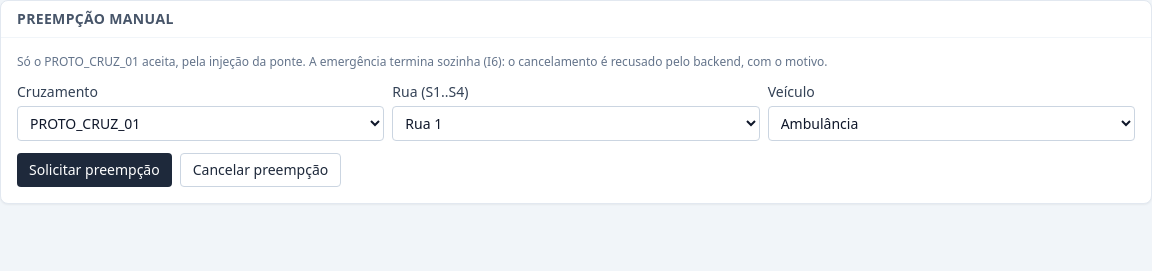
Scenario: PreempcaoManual › num CRUZ_xx mostra o 409 com o motivo do backend
Select "CRUZ_01" in the dropdown labelled "Cruzamento": coordinates (201, 124) [17,106,384,141]
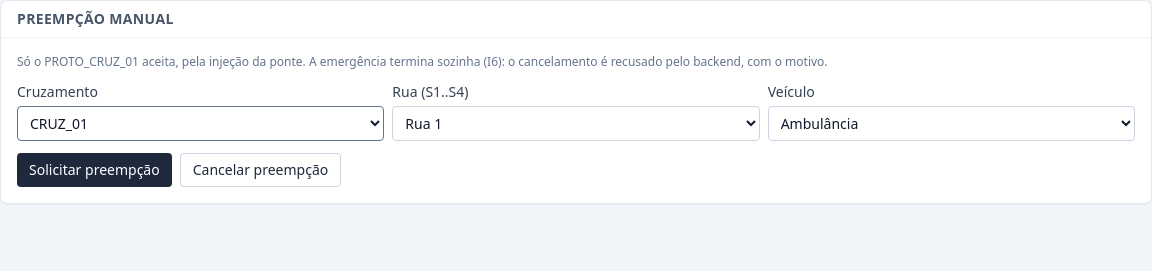
Click the button "Solicitar preempção": coordinates (94, 170) [17,153,172,187]
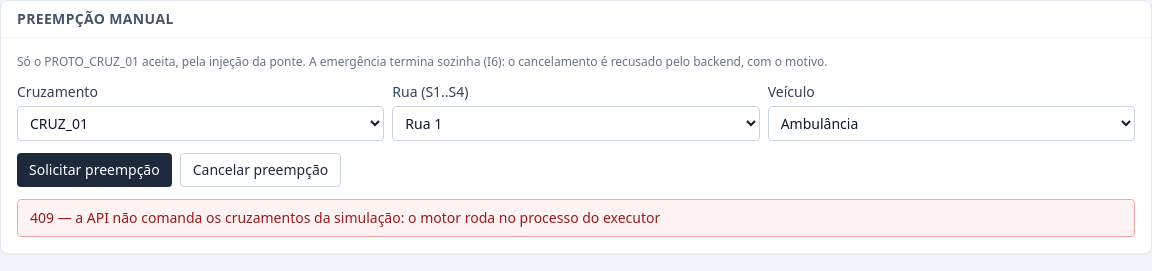
Now the message shows "409 — a API não comanda os cruzamentos da simulação: o motor roda no processo do executor", box [30,208,660,227]
